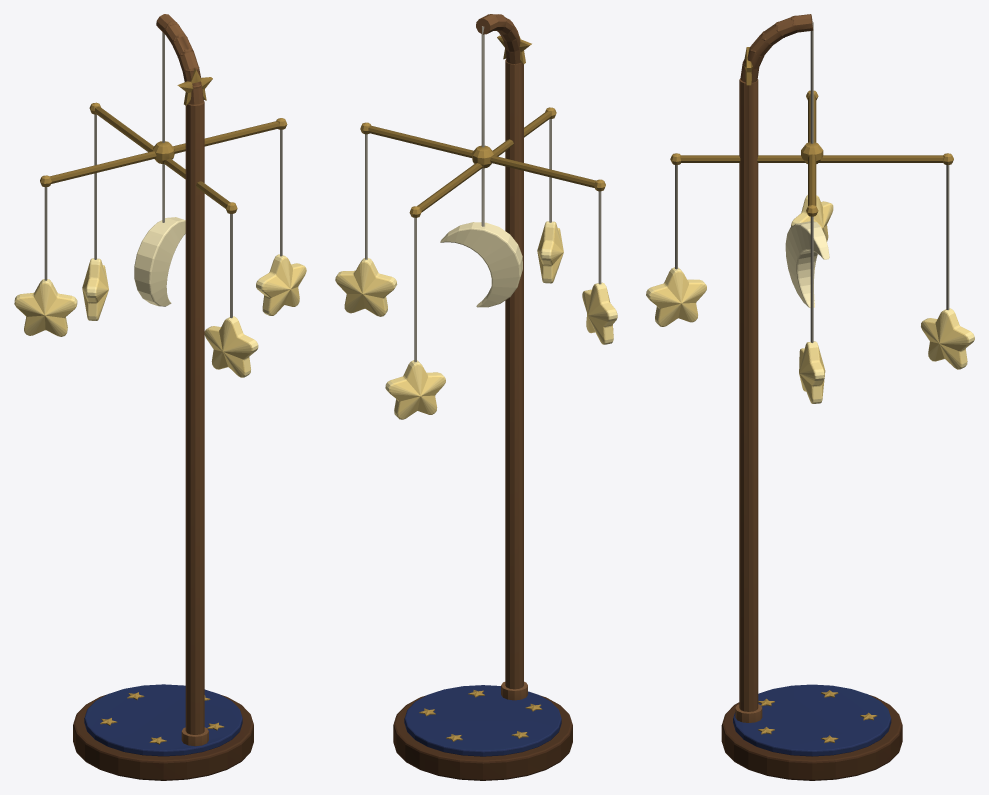
Rendered from star_mobile.glb.
The picture shows the model from 3 angles, left to right: view 1: azimuth 30°, elevation 25°; view 2: azimuth 150°, elevation 25°; view 3: azimuth 270°, elevation 25°; orthographic projection.
Bounding box in the file's own units: 0.731 × 1.78 × 0.7271.
